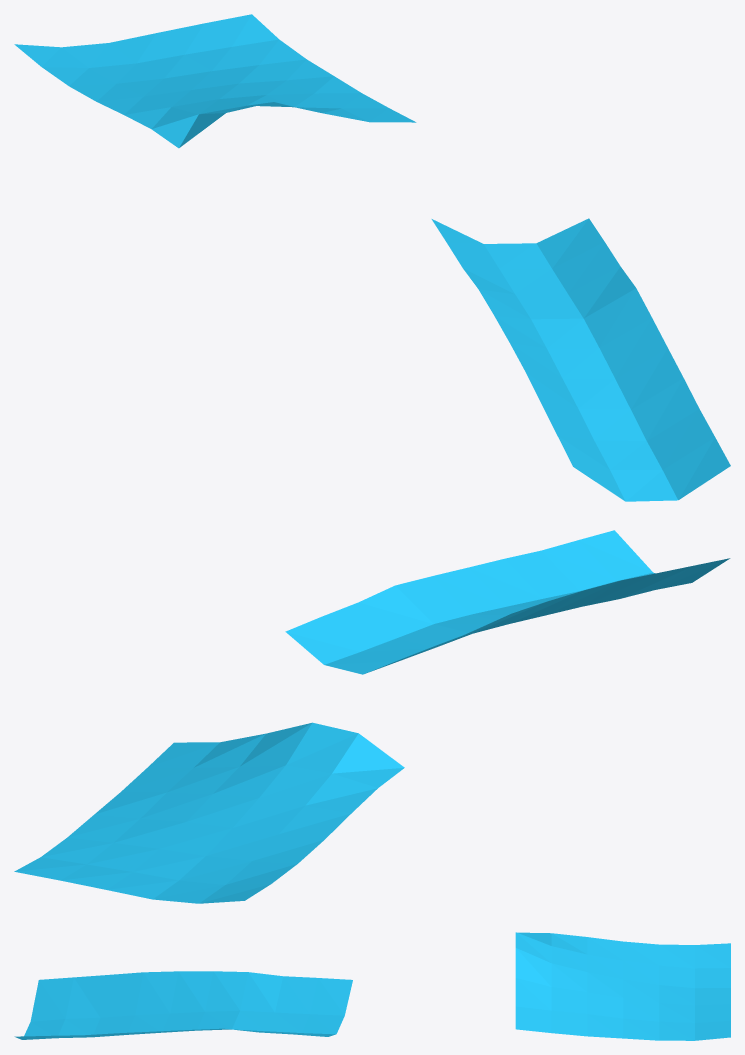
File: hand0423g_middle_to_palm_aligned.obj
The picture shows the model from 3 angles, top to bottom: view 1: azimuth 30°, elevation 25°; view 2: azimuth 150°, elevation 25°; view 3: azimuth 270°, elevation 25°; orthographic projection. The views are drawn at different scales.
Visible parts, largest first — view 1: finger_to_palm_middle; view 2: finger_to_palm_middle; view 3: finger_to_palm_middle.
Part boxes in pixels (bbox=[...]): finger_to_palm_middle: bbox=[14, 14, 730, 501]; finger_to_palm_middle: bbox=[14, 530, 730, 903]; finger_to_palm_middle: bbox=[14, 932, 730, 1040].
Bounding box in the file's own units: 0.8477 × 0.392 × 3.02.
